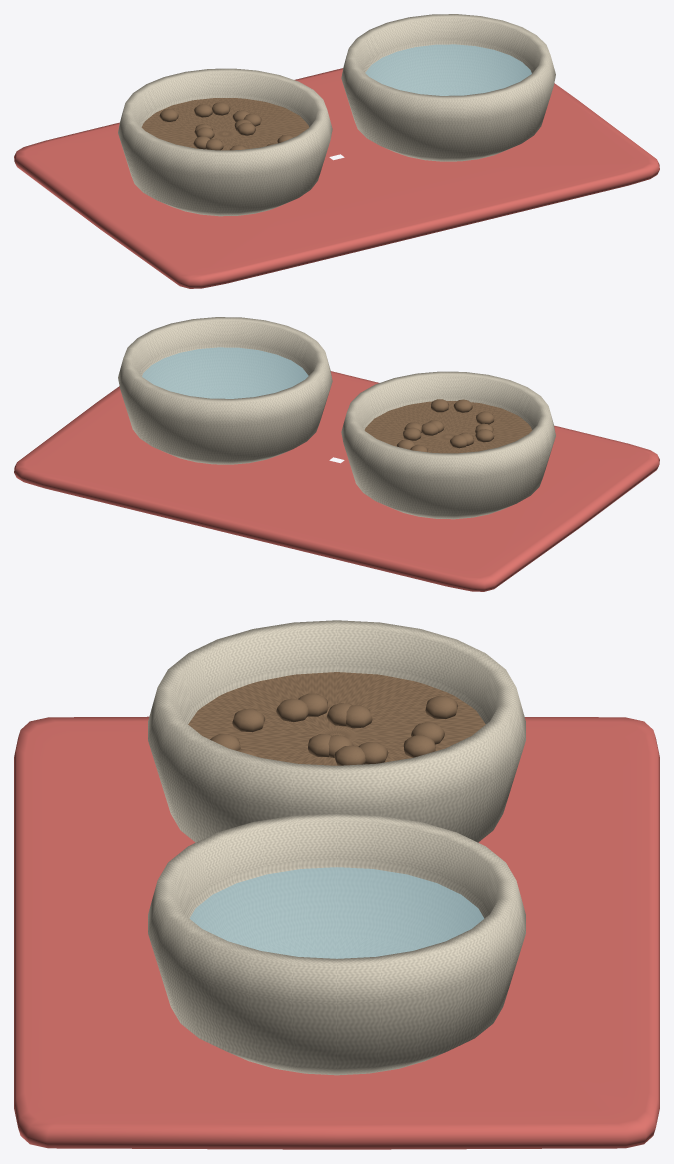
The model's file is pet-bowls.glb.
The picture shows the model from 3 angles, top to bottom: view 1: azimuth 30°, elevation 25°; view 2: azimuth 150°, elevation 25°; view 3: azimuth 270°, elevation 25°; orthographic projection. The views are drawn at different scales.
Parts seen in each view (by area): view 1: feeding-bowls; view 2: feeding-bowls; view 3: feeding-bowls.
Part boxes in pixels (box(x1,y1,x2,y2)): feeding-bowls: box(14, 14, 659, 288); feeding-bowls: box(14, 317, 659, 591); feeding-bowls: box(14, 620, 659, 1149).
Bounding box in the file's own units: 0.52 × 0.087 × 0.3395.
4 materials, 2 textured.
